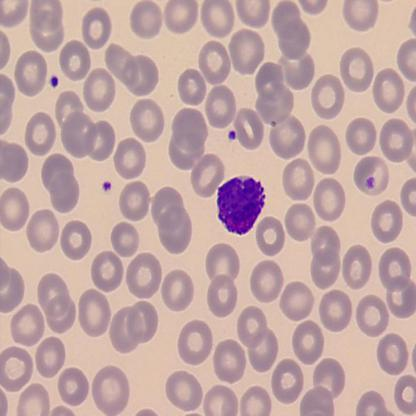Basophil: (215, 172, 267, 237)
